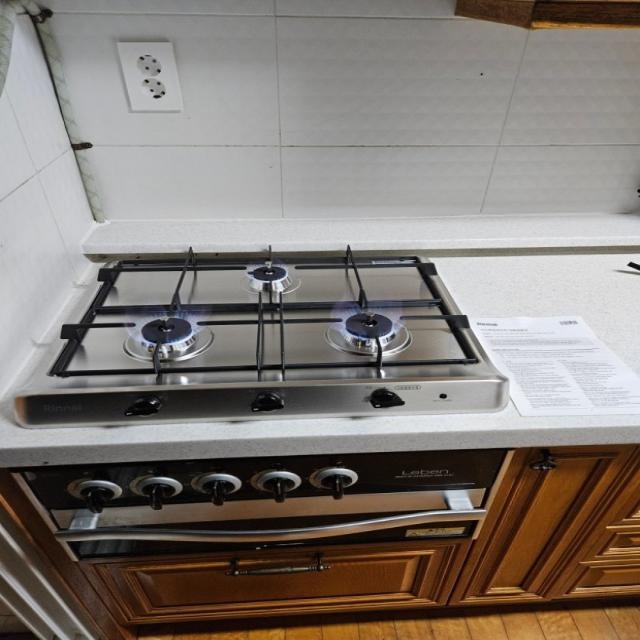knob_OFF: (312, 303, 443, 371), (114, 305, 222, 372), (226, 251, 323, 316)
